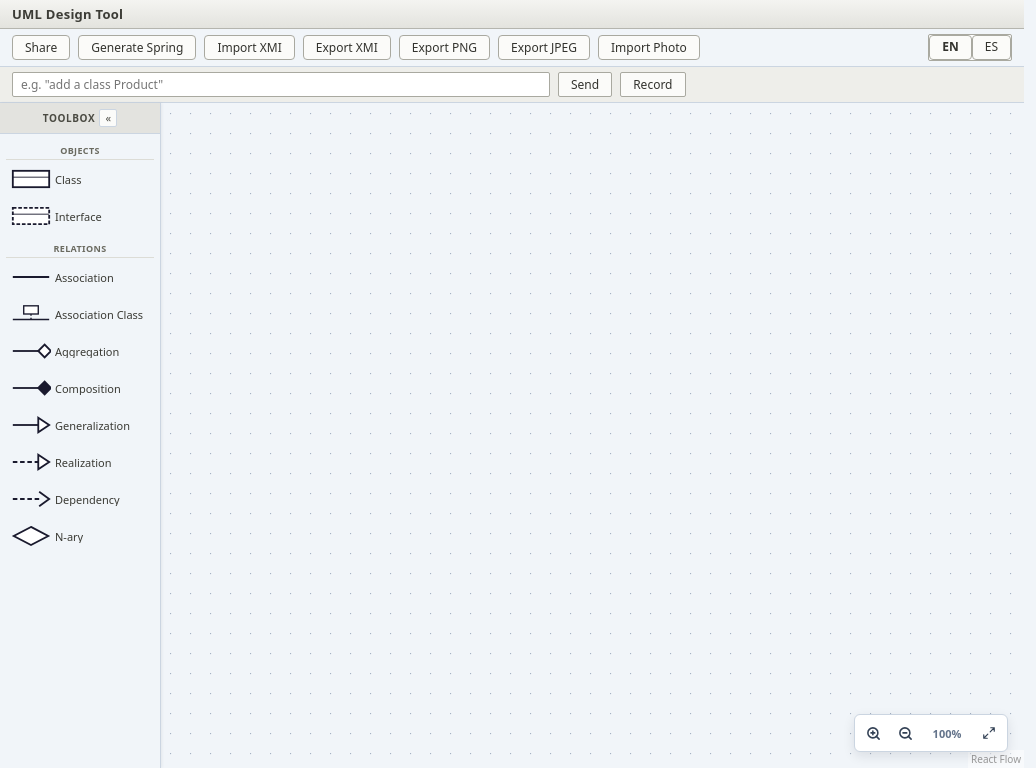
Test: App integration (editor:R5 round-trip + 6b blobs) › renders the Share button in the toolbar and copies current URL to clipboard on click
Click the button with test id "toolbar-share" at (41, 47), box [12,35,70,60]
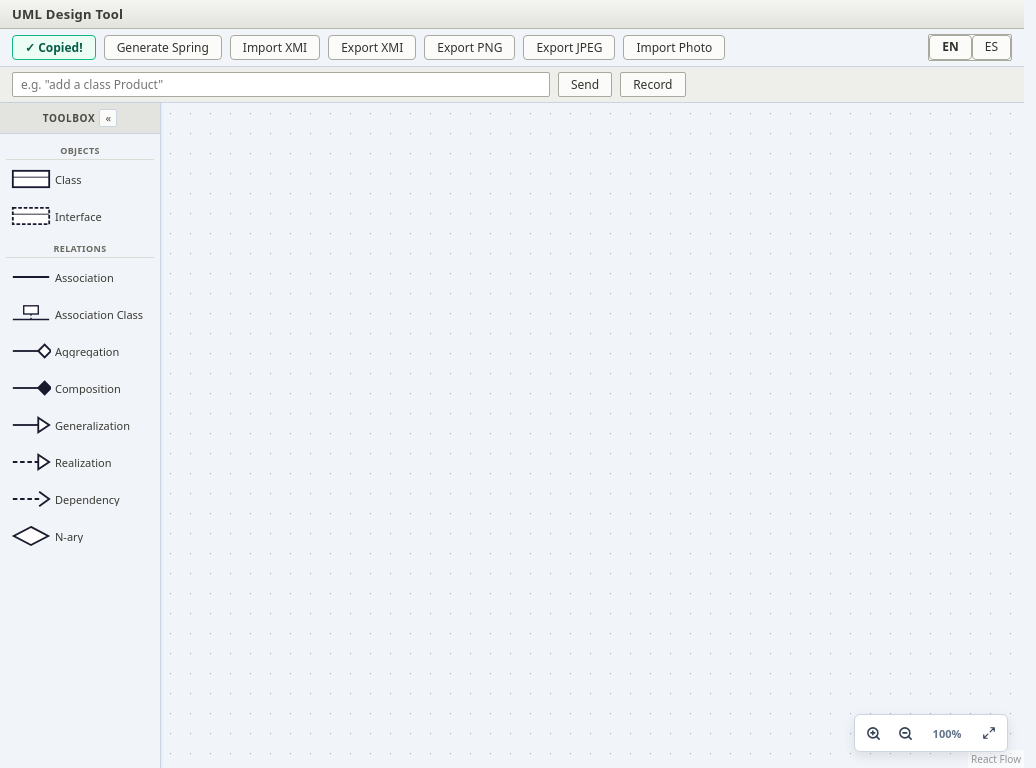
Check: the button with test id "toolbar-share" shows "Copied!", box [12,35,96,60]
